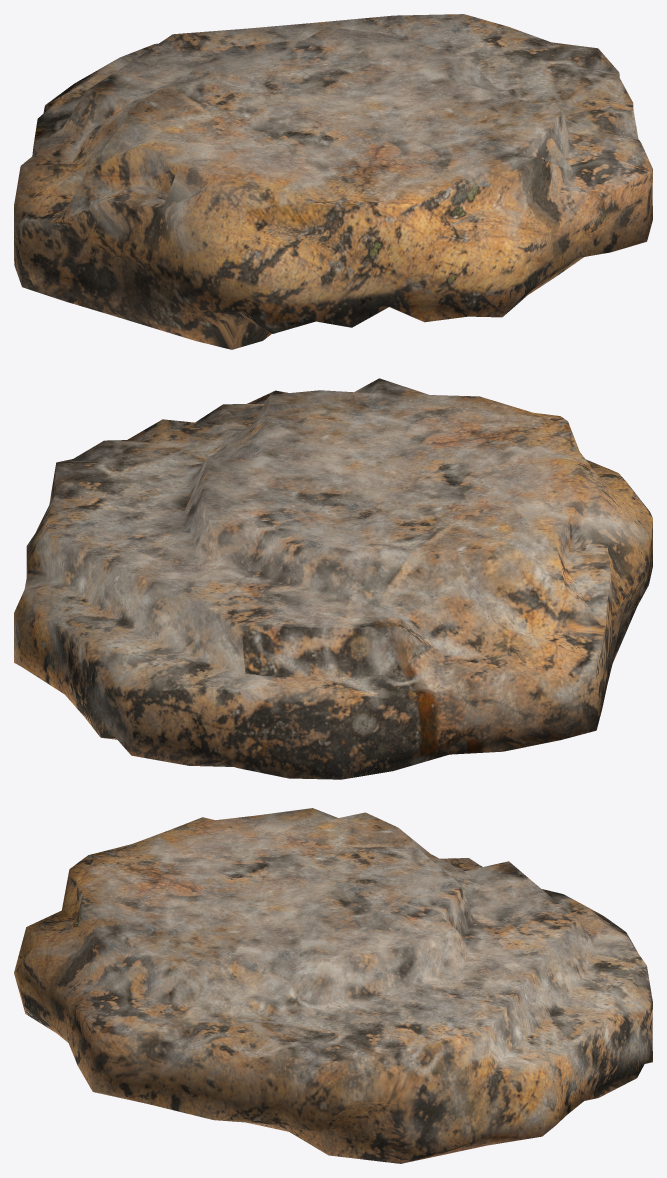
Rendered from stone_platform.glb.
3 renders of one model, top to bottom at view 1: azimuth 30°, elevation 25°; view 2: azimuth 150°, elevation 25°; view 3: azimuth 270°, elevation 25°, orthographic. The views are drawn at different scales.
Visible parts, largest first — view 1: Rock; view 2: Rock; view 3: Rock.
Boxes of the visible parts, x1,y1,x2,y2 form: Rock: (14, 14, 652, 349); Rock: (14, 378, 652, 779); Rock: (14, 808, 652, 1163).
Bounding box in the file's own units: 1.82 × 0.4656 × 1.88.
1 material, 1 textured.
